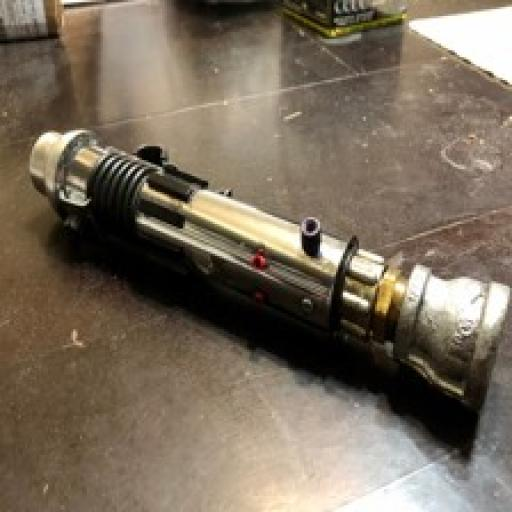lightsaber: (29, 128, 510, 413)
